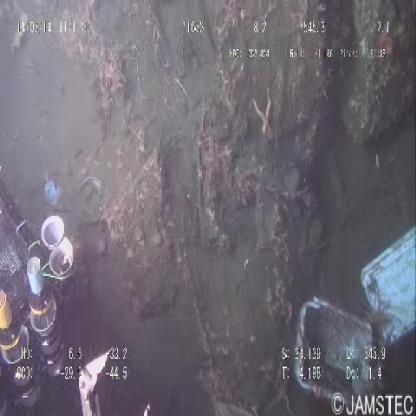Rov: (1, 140, 158, 416)
Rác: (284, 211, 416, 415)
